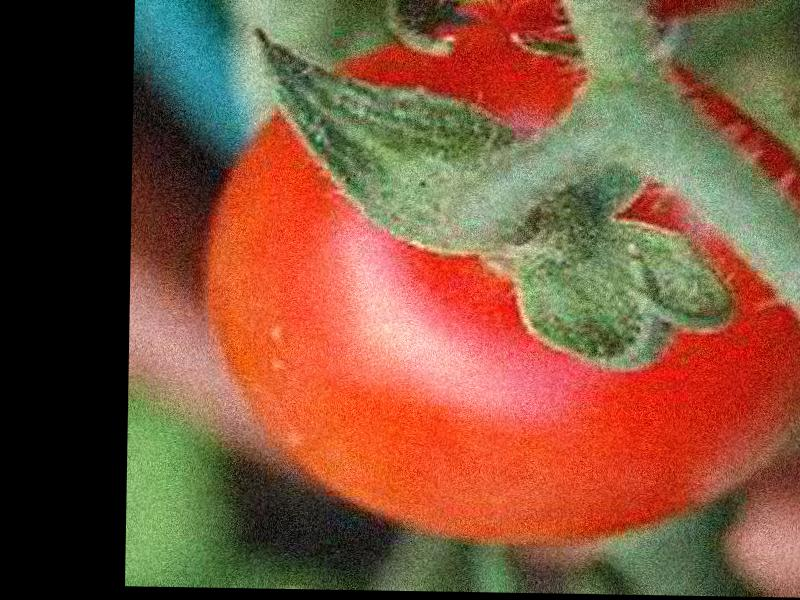Tomato: (200, 1, 800, 548)
